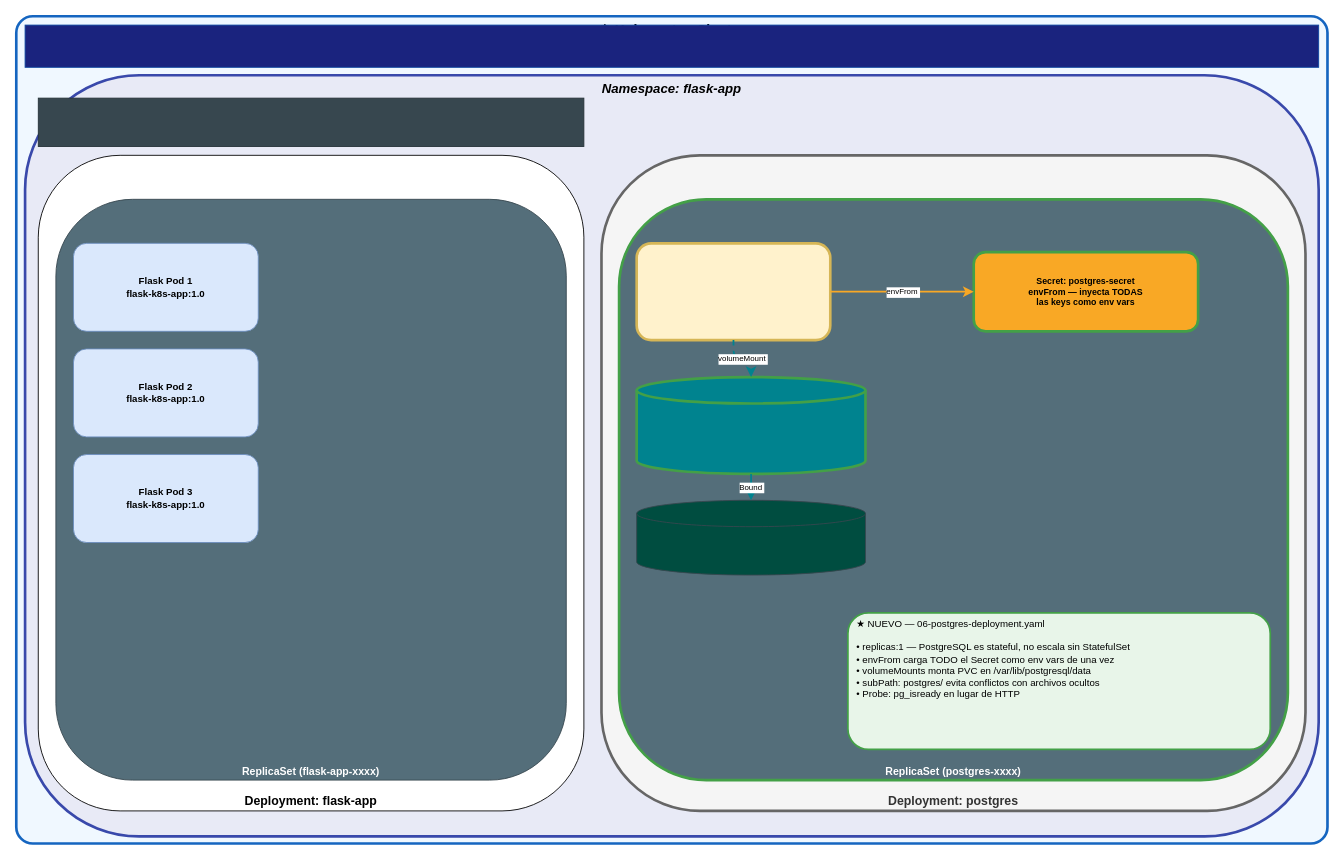
The diagram is 1344 pixels wide and 860 high, and some of its shapes have lost their labels. The centre of each missing label's shape, as x and y in pixels:
"Control Plane — API Server | etcd | Scheduler | Controller Manager | CoreDNS" goes at point 671,45.
"PersistentVolume 1Gi" goes at point 750,537.
"Postgres Pod postgres:15-alpine port 5432" goes at point 733,291.
"PVC: postgres-pvc mountPath: /var/lib/postgresql/data subPath: postgres" goes at point 750,425.
"Service: flask-service | ClusterIP | port 5000" goes at point 310,122.
